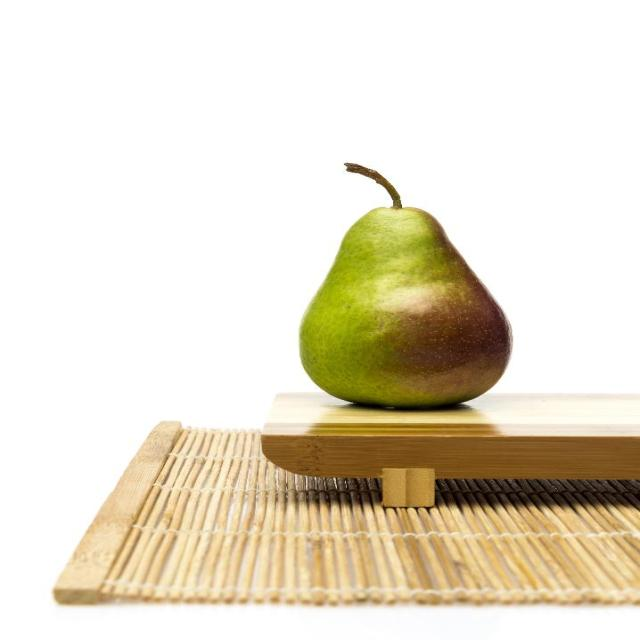pear: (298, 160, 515, 412)
